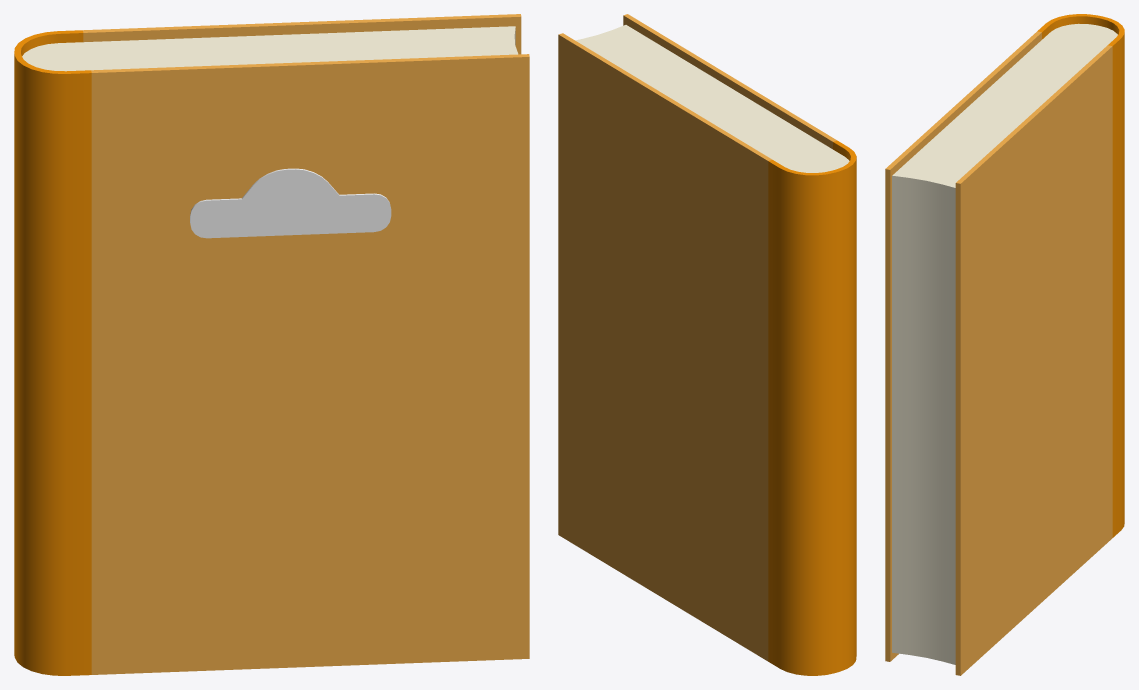
The model's file is notebook_with_decorative_cover.glb.
3 views of the same model, side by side, from view 1: azimuth 30°, elevation 25°; view 2: azimuth 150°, elevation 25°; view 3: azimuth 270°, elevation 25° (orthographic). The views are drawn at different scales.
Visible parts, largest first — view 1: Cube.945; view 2: Cube.945; view 3: Cube.945.
Part boxes in pixels (x1,y1,x2,y2): Cube.945: [14, 14, 529, 675]; Cube.945: [558, 14, 856, 675]; Cube.945: [885, 14, 1124, 675].
Bounding box in the file's own units: 1.55 × 2.1 × 0.9263.
1 material, 1 textured.
